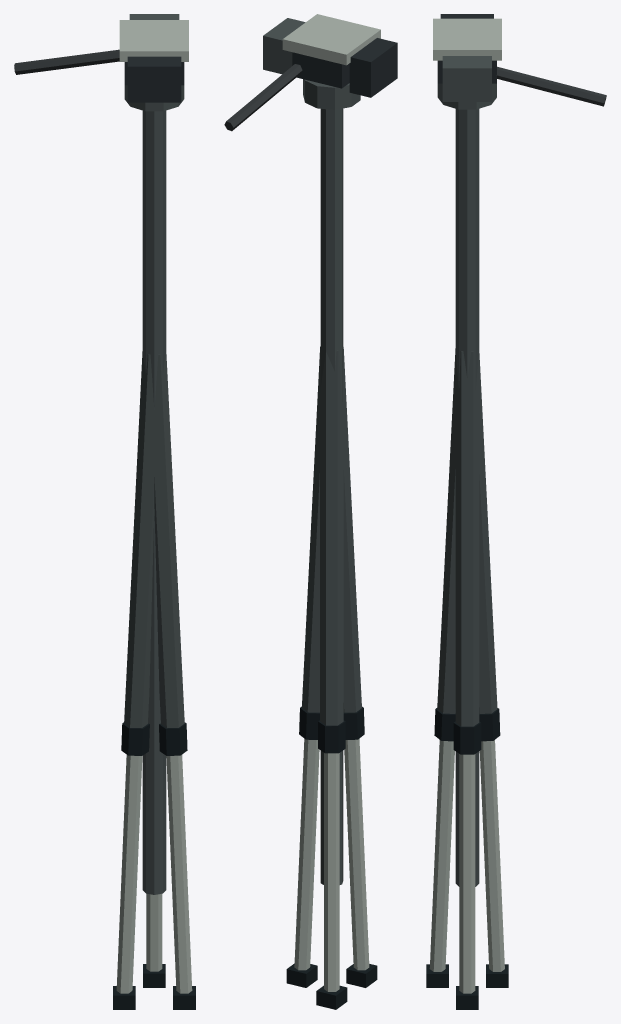
Rendered from blender_tripod_3_folded.glb.
3 views of the same model, side by side, from view 1: azimuth 90°, elevation 25°; view 2: azimuth 150°, elevation 25°; view 3: azimuth 270°, elevation 25° (orthographic).
Visible parts, largest first — view 1: blender_tripod_3_folded; view 2: blender_tripod_3_folded; view 3: blender_tripod_3_folded.
Boxes of the visible parts, x1,y1,x2,y2 form: blender_tripod_3_folded: [14, 14, 195, 1009]; blender_tripod_3_folded: [224, 14, 397, 1009]; blender_tripod_3_folded: [426, 14, 606, 1009].
Size of the model in its own units: 0.128 by 1.07 by 0.1833.
Materials: 1 (1 with a texture image).
